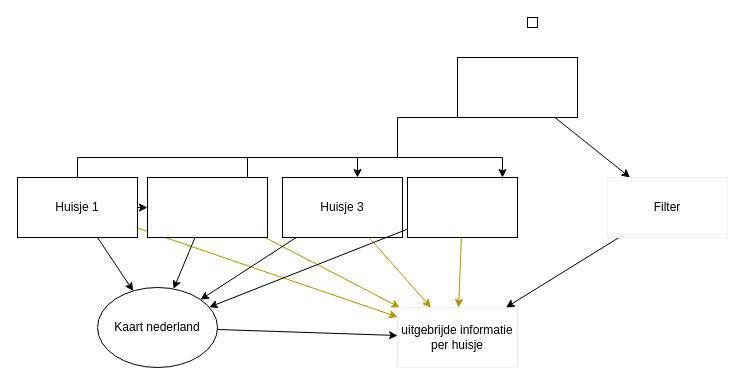
Some shapes in this 745 by 385 pixel diagram are drawn without their labels. The centre of each missing label's shape, as x and y in pixels:
Home: the point at 517,87
Huisje 2: the point at 207,207
Huisje 4: the point at 462,207
